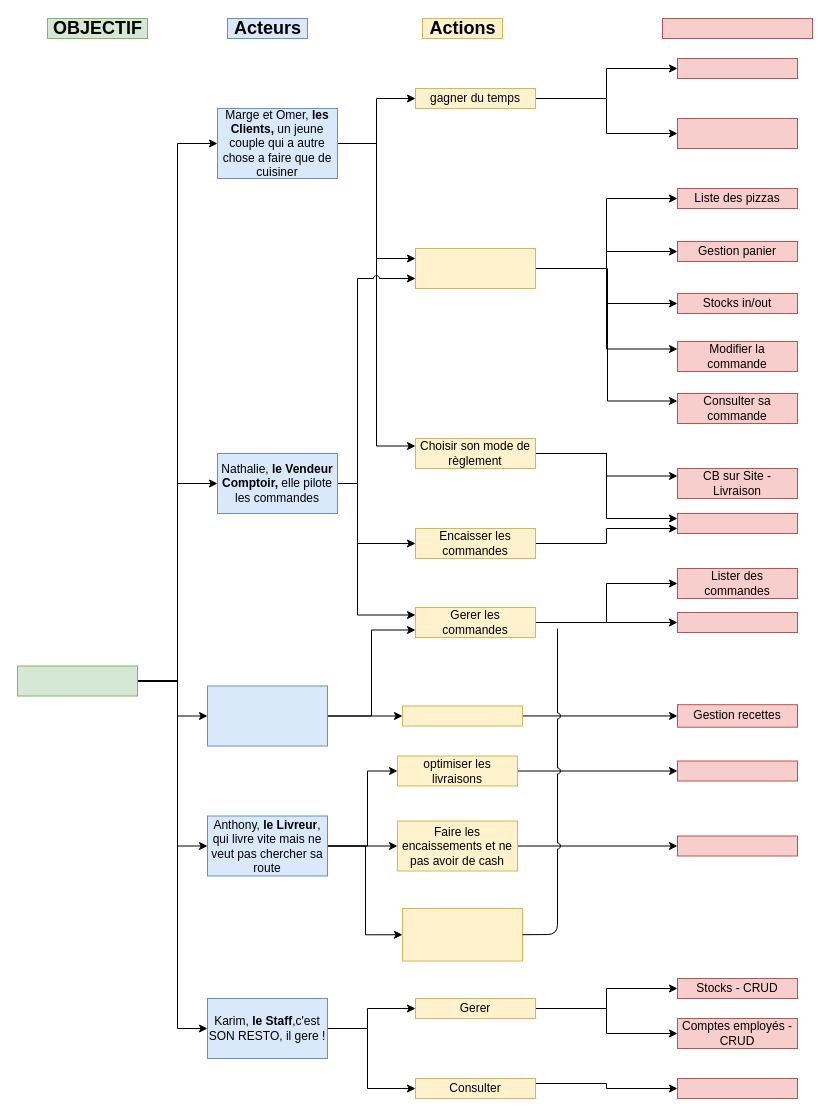
Some shapes in this 830 by 1116 pixel diagram are drawn without their labels. The centre of each missing label's shape, as x and y in pixels:
Athentification simple: pixel 737 68
CB Livraison: pixel 737 845
commander/ Gerer/suivre la commande: pixel 475 268
Faire savoir que la pizza est livrée ou en cours de livraison: pixel 462 934
Fonctionnalités: pixel 737 28
Geolocalisation: pixel 737 770
Gestion du compte client: pixel 737 133
Gestion plus efficace: pixel 77 680
Luigi, le Pizzaiolo , qui veut faire vite et bien: pixel 267 715
Modifier commandes: pixel 737 622
Preparer les pizzas: pixel 462 715
Reglement comptoir: pixel 737 523
Statistiques: pixel 737 1088
